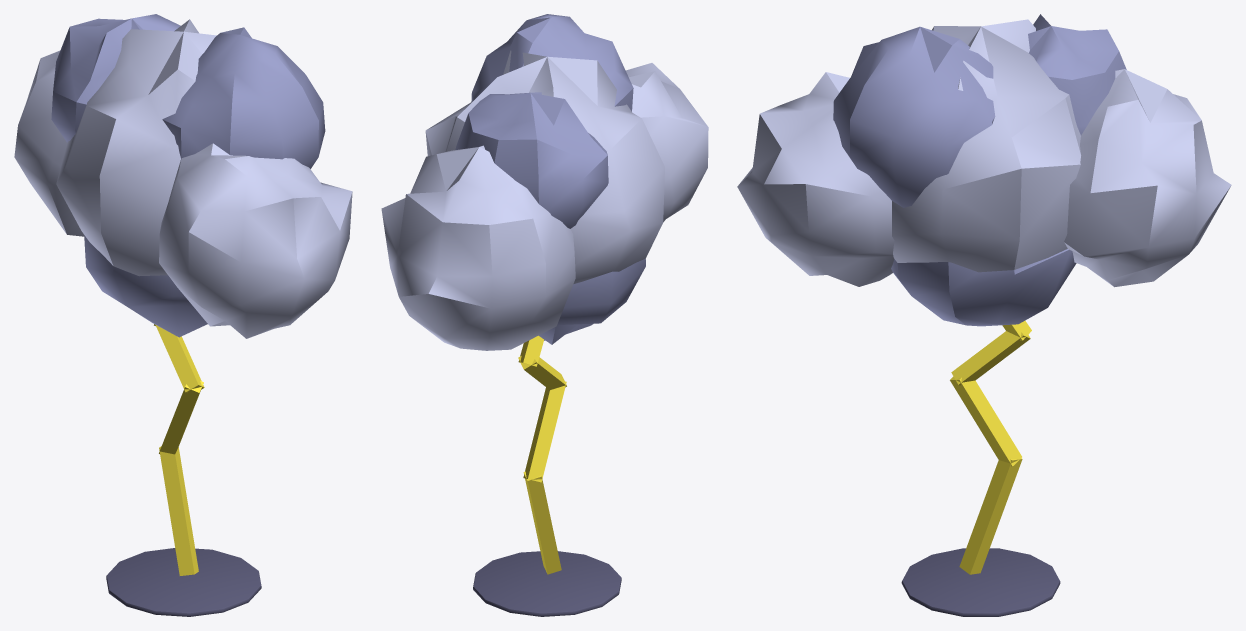
The model's file is LandStormCloud.fbx.
The picture shows the model from 3 angles, left to right: view 1: azimuth 30°, elevation 25°; view 2: azimuth 150°, elevation 25°; view 3: azimuth 270°, elevation 25°; orthographic projection. The views are drawn at different scales.
Visible parts, largest first — view 1: LandStormCloud; view 2: LandStormCloud; view 3: LandStormCloud.
Boxes of the visible parts, bbox=[...] form: LandStormCloud: bbox=[14, 14, 352, 616]; LandStormCloud: bbox=[381, 14, 708, 616]; LandStormCloud: bbox=[737, 14, 1231, 616].
Bounding box in the file's own units: 505 × 1270 × 997.
